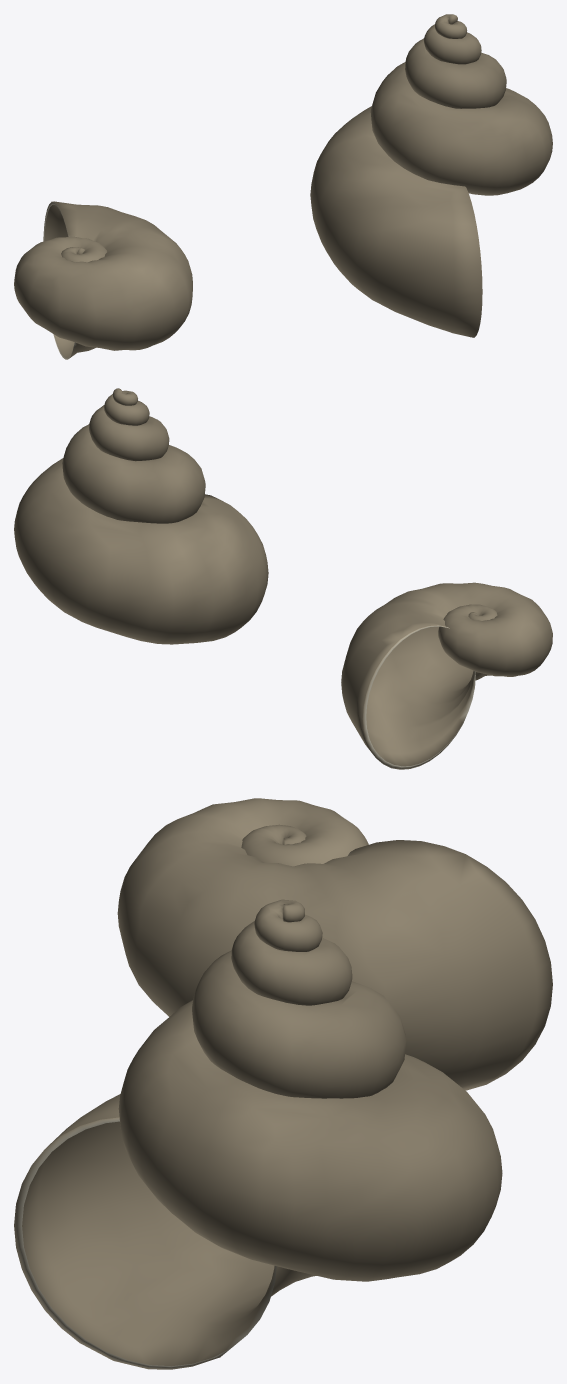
The model's file is gastropod-shells.lod1.glb.
3 renders of one model, top to bottom at view 1: azimuth 30°, elevation 25°; view 2: azimuth 150°, elevation 25°; view 3: azimuth 270°, elevation 25°, orthographic. The views are drawn at different scales.
Parts seen in each view (by area): view 1: gastropod-shells; view 2: gastropod-shells; view 3: gastropod-shells.
Boxes of the visible parts, x1,y1,x2,y2 form: gastropod-shells: (14,14,552,359); gastropod-shells: (14,388,552,769); gastropod-shells: (14,798,552,1369).
Bounding box in the file's own units: 0.1841 × 0.0938 × 0.094.
